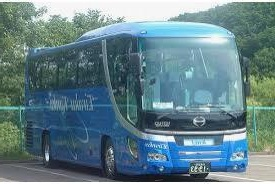bus: (23, 21, 249, 179)
